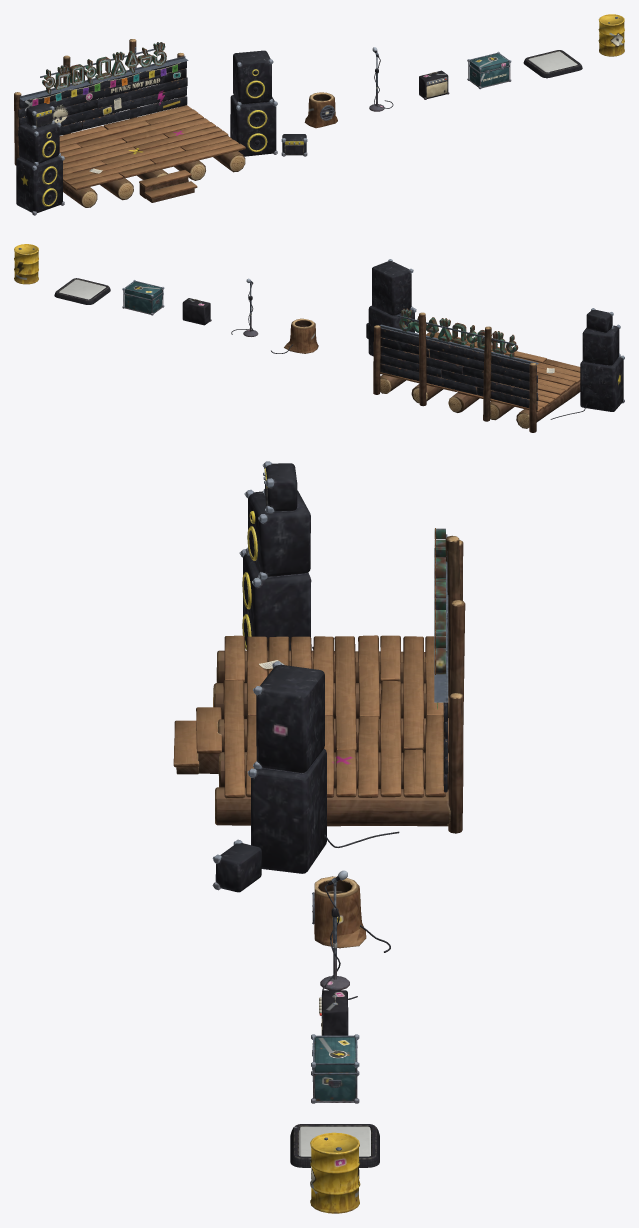
Rendered from props_foro.glb.
3 views of the same model, one above another, from view 1: azimuth 30°, elevation 25°; view 2: azimuth 150°, elevation 25°; view 3: azimuth 270°, elevation 25° (orthographic). The views are drawn at different scales.
Parts seen in each view (by area): view 1: Prop_Escenario, Prop_CajaEquipo, Prop_TamboRayo, Prop_BocinaTocon, Prop_Ampli, Prop_Pad_Cara, Prop_Pad, Prop_PieMicro; view 2: Prop_Escenario, Prop_CajaEquipo, Prop_TamboRayo, Prop_BocinaTocon, Prop_Ampli, Prop_Pad_Cara, Prop_Pad, Prop_PieMicro; view 3: Prop_Escenario, Prop_TamboRayo, Prop_CajaEquipo, Prop_BocinaTocon, Prop_Ampli, Prop_Pad, Prop_Pad_Cara, Prop_PieMicro.
Boxes of the visible parts, x1,y1,x2,y2 form: Prop_Escenario: [14, 39, 307, 215]; Prop_CajaEquipo: [467, 51, 511, 89]; Prop_TamboRayo: [598, 14, 624, 56]; Prop_BocinaTocon: [304, 92, 337, 128]; Prop_Ampli: [419, 70, 449, 99]; Prop_Pad_Cara: [528, 51, 577, 72]; Prop_Pad: [523, 50, 582, 78]; Prop_PieMicro: [369, 47, 393, 111]; Prop_Escenario: [366, 259, 624, 432]; Prop_CajaEquipo: [122, 280, 164, 315]; Prop_TamboRayo: [14, 244, 38, 284]; Prop_BocinaTocon: [271, 318, 318, 353]; Prop_Ampli: [182, 298, 211, 325]; Prop_Pad_Cara: [59, 279, 106, 299]; Prop_Pad: [54, 278, 110, 304]; Prop_PieMicro: [231, 278, 258, 336]; Prop_Escenario: [173, 461, 465, 892]; Prop_TamboRayo: [310, 1132, 360, 1213]; Prop_CajaEquipo: [311, 1034, 359, 1103]; Prop_BocinaTocon: [312, 876, 390, 952]; Prop_Ampli: [319, 990, 348, 1035]; Prop_Pad: [290, 1124, 379, 1167]; Prop_Pad_Cara: [299, 1126, 370, 1156]; Prop_PieMicro: [320, 870, 357, 999].
Size of the model in its own units: 18.27 by 2.77 by 3.91.
Materials: 1 (1 with a texture image).
